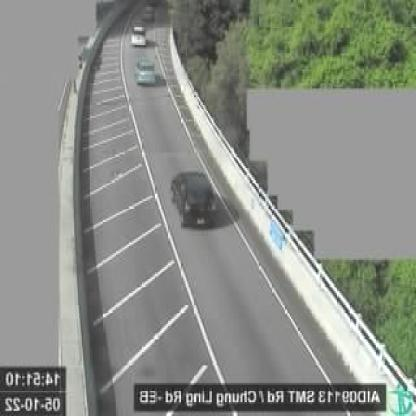Car: (173, 172, 216, 227), (138, 57, 158, 85), (132, 24, 146, 45)
